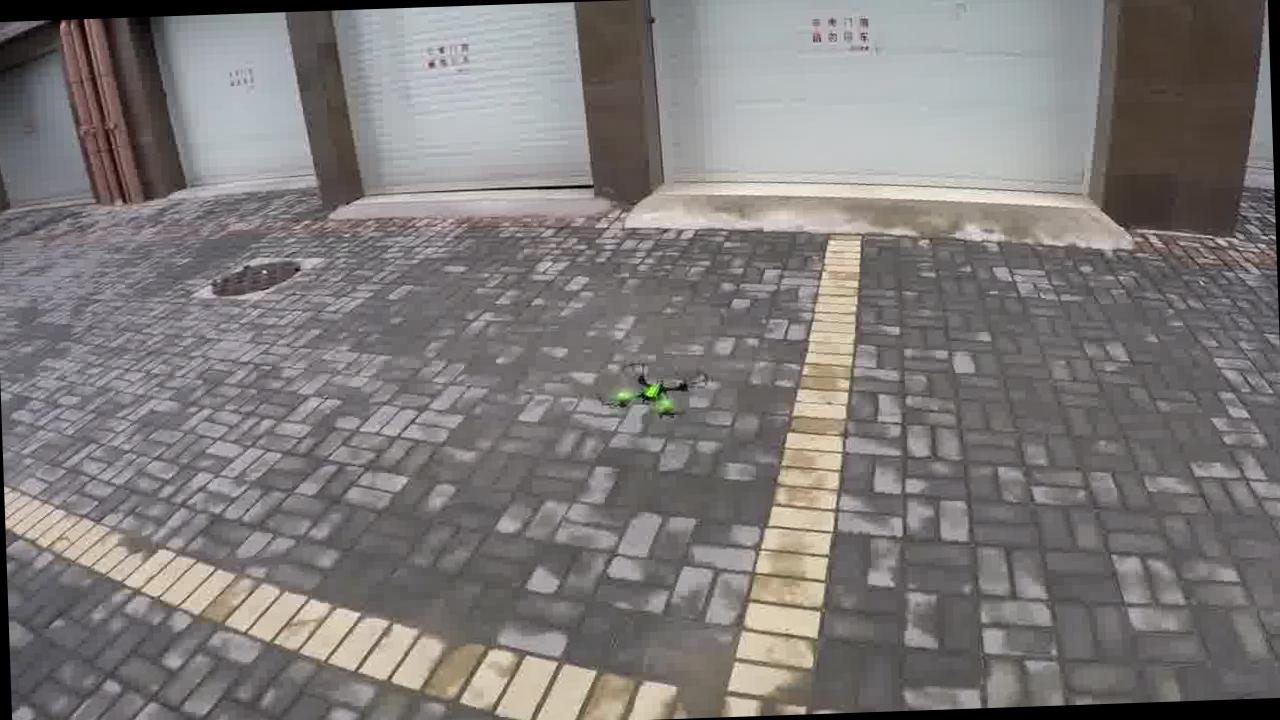drone: (595, 354, 715, 422)
